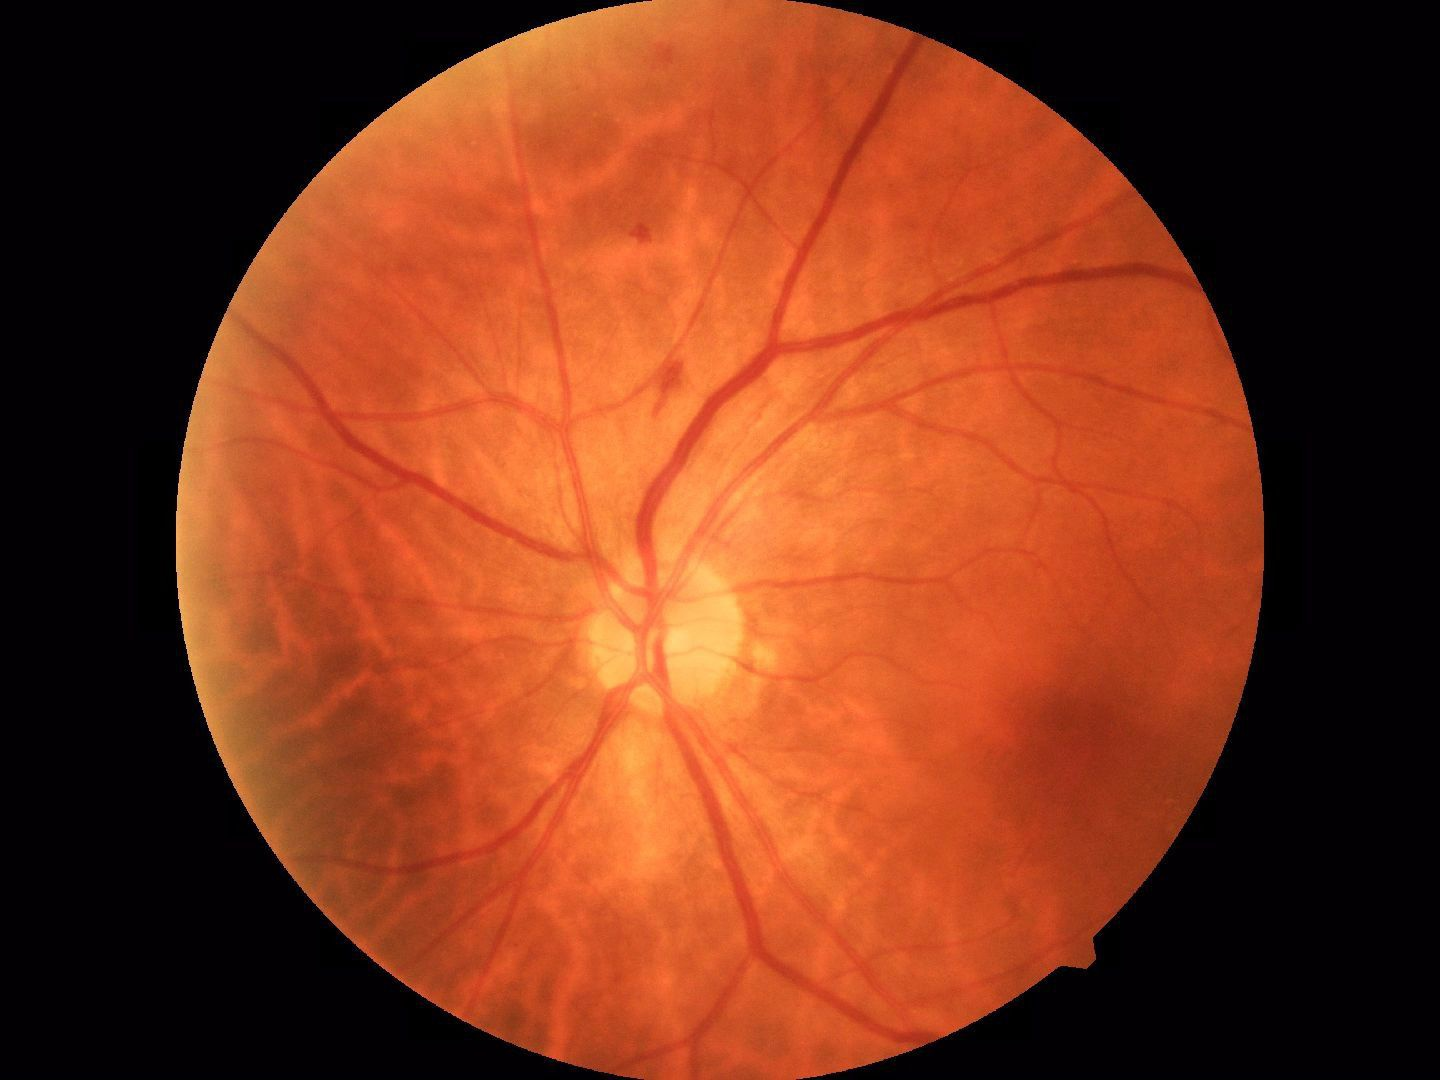Arterioles: (882, 351, 1116, 557)
Exudates: (651, 344, 689, 424)
Optic-Disc: (588, 557, 735, 711)
Venules: (636, 462, 671, 548)
